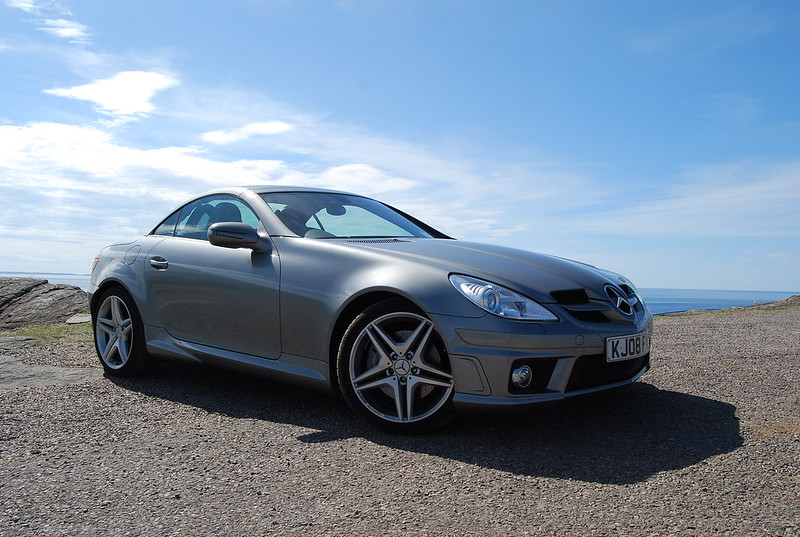car: (82, 181, 665, 443)
